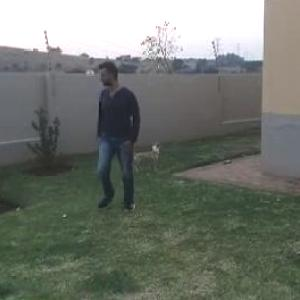follow: (96, 60, 143, 207)
